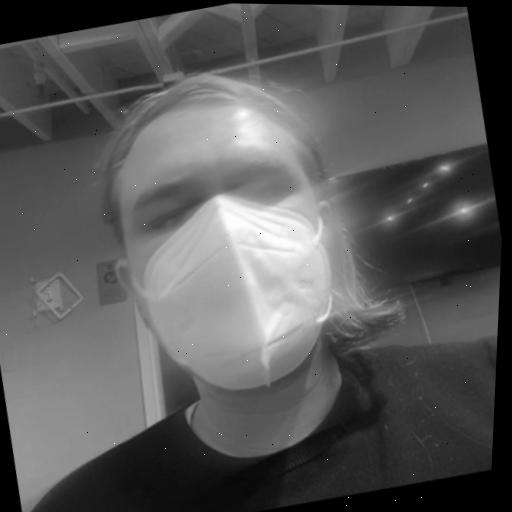mask: (27, 33, 424, 499)
